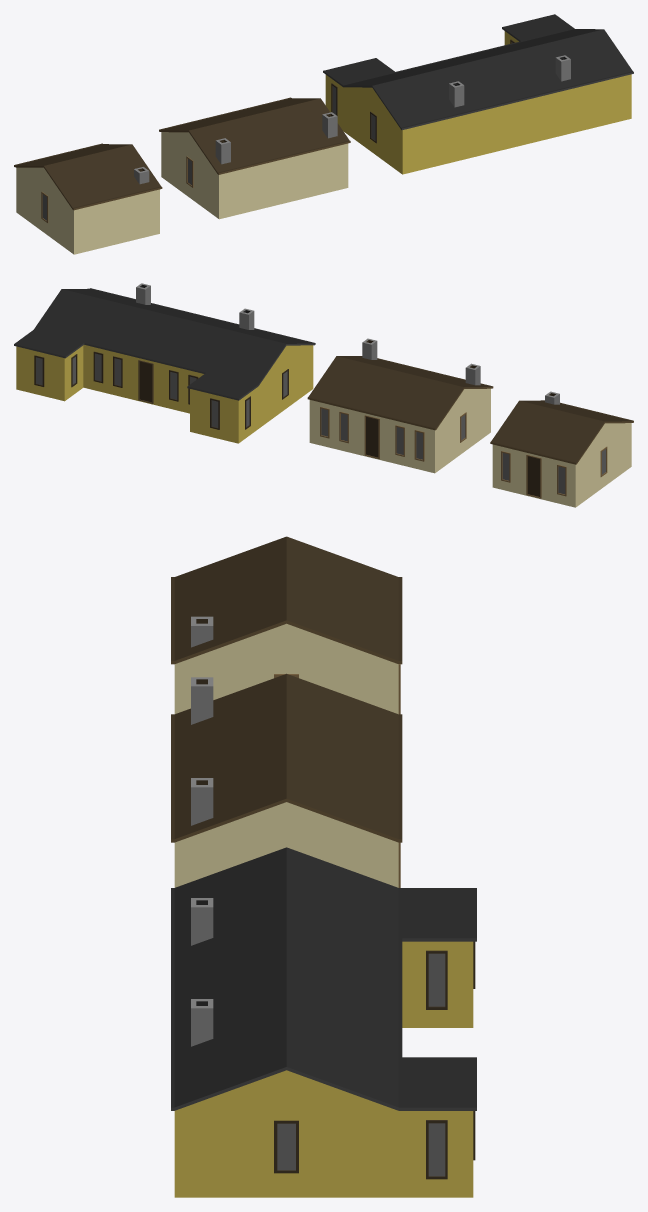
Rendered from Hospitals.fbx.
3 renders of one model, top to bottom at view 1: azimuth 30°, elevation 25°; view 2: azimuth 150°, elevation 25°; view 3: azimuth 270°, elevation 25°, orthographic. The views are drawn at different scales.
Visible parts, largest first — view 1: Hospital LVL 3, Hospital LVL 2, Hospital LVL 1; view 2: Hospital LVL 3, Hospital LVL 2, Hospital LVL 1; view 3: Hospital LVL 3, Hospital LVL 2, Hospital LVL 1.
Part boxes in pixels (<box>): Hospital LVL 3: <box>323,14,633,174</box>; Hospital LVL 2: <box>159,97,350,219</box>; Hospital LVL 1: <box>14,143,162,254</box>; Hospital LVL 3: <box>14,283,315,443</box>; Hospital LVL 2: <box>307,338,493,473</box>; Hospital LVL 1: <box>490,391,633,507</box>; Hospital LVL 3: <box>171,847,476,1197</box>; Hospital LVL 2: <box>171,673,402,887</box>; Hospital LVL 1: <box>171,536,402,714</box>.
Size of the model in its own units: 3362 by 402 by 820.
